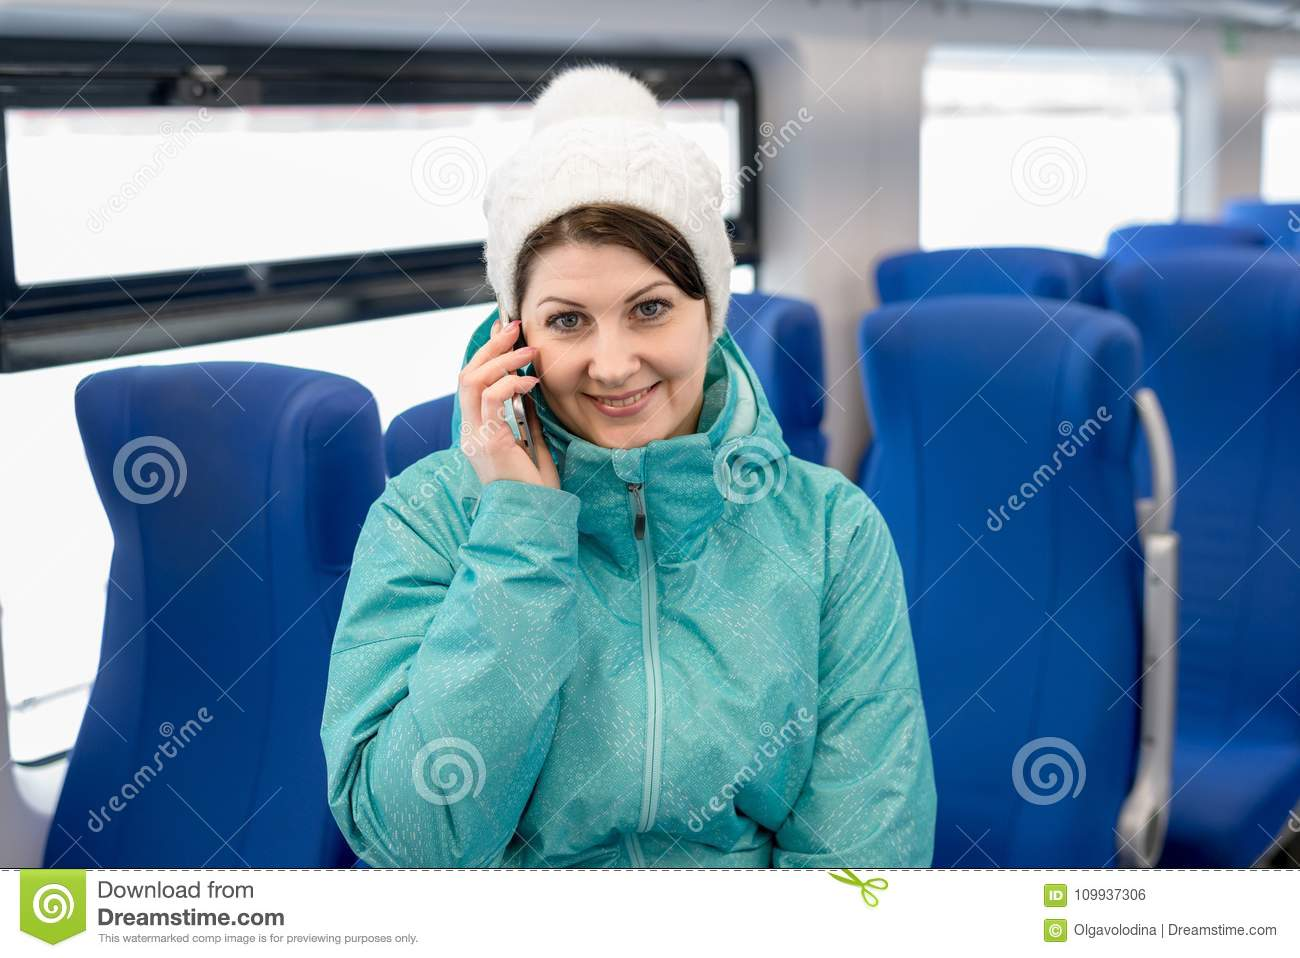phone: (472, 291, 559, 468)
talk: (455, 277, 694, 505)
